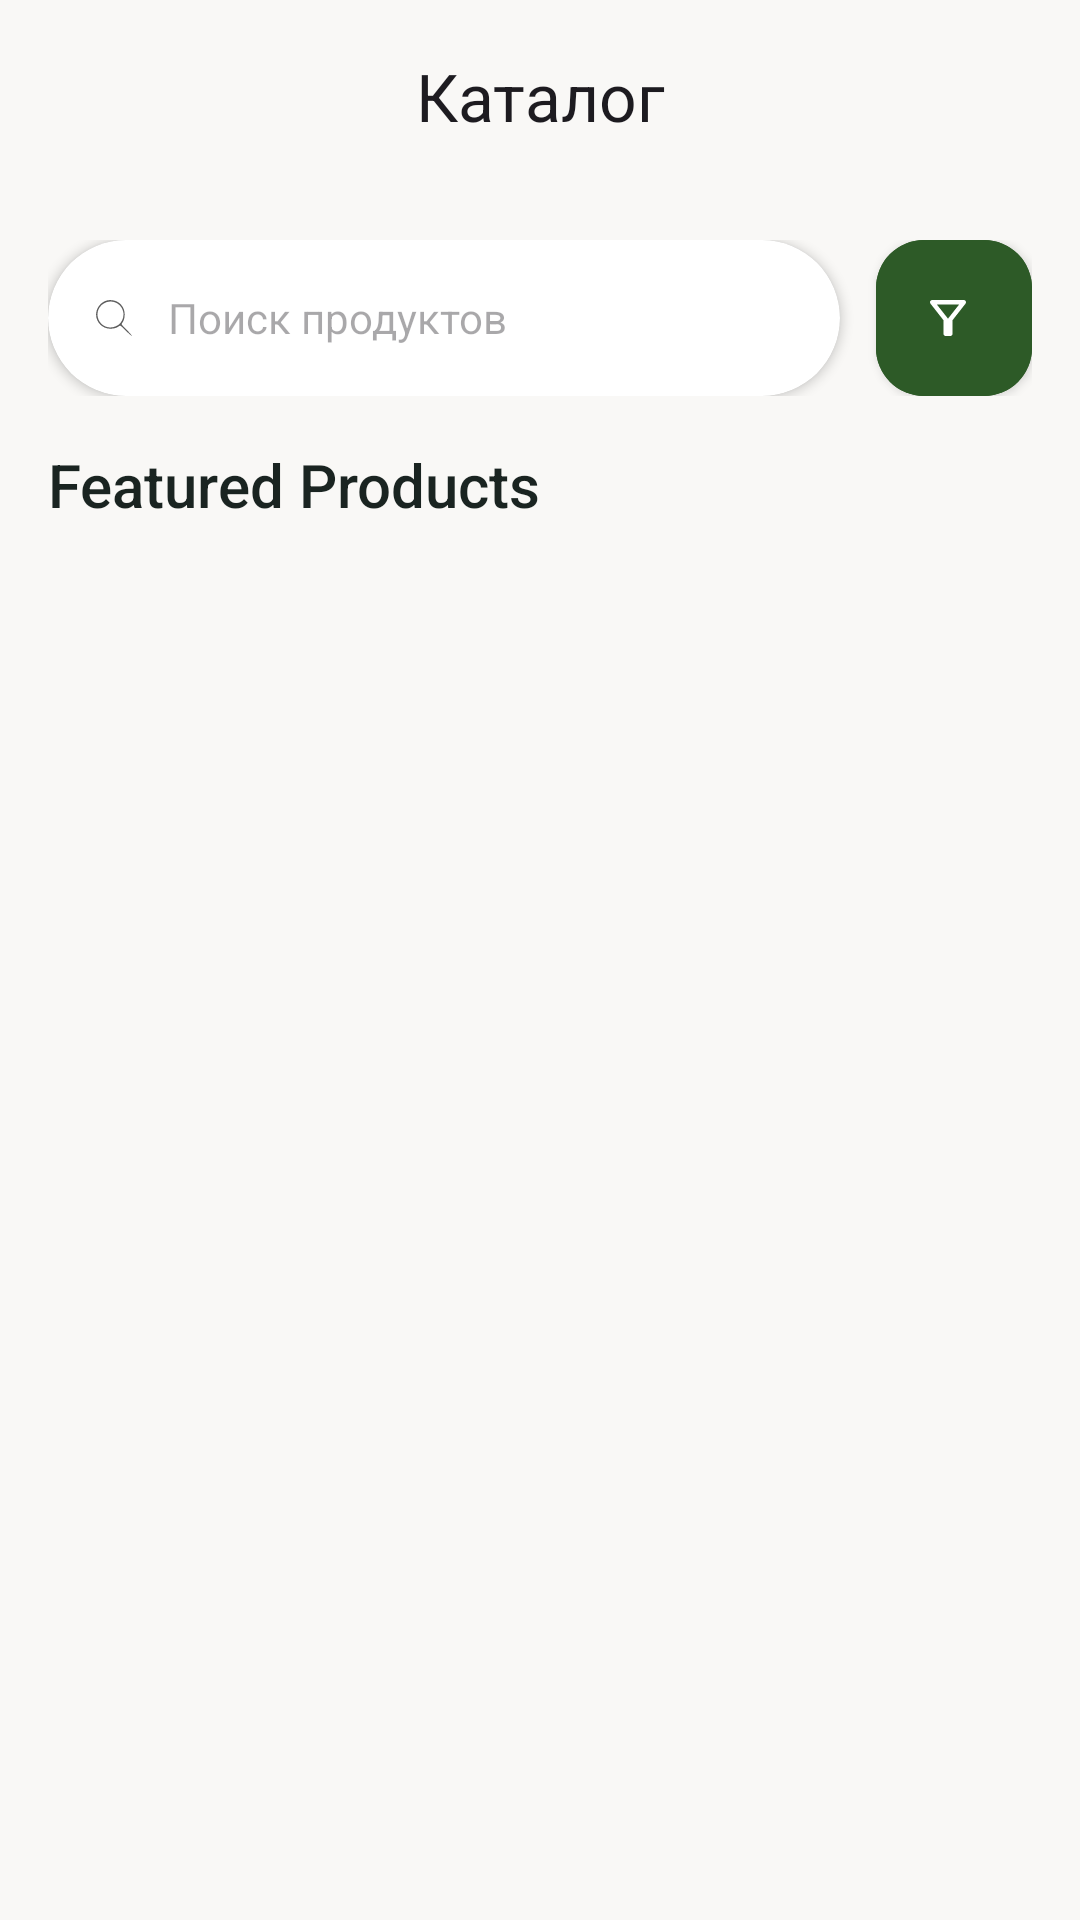

Icons on this 1080x1920 Android screen, each with its box as (x1, y1, x2, y2):
filter: (876, 240, 1032, 396)
